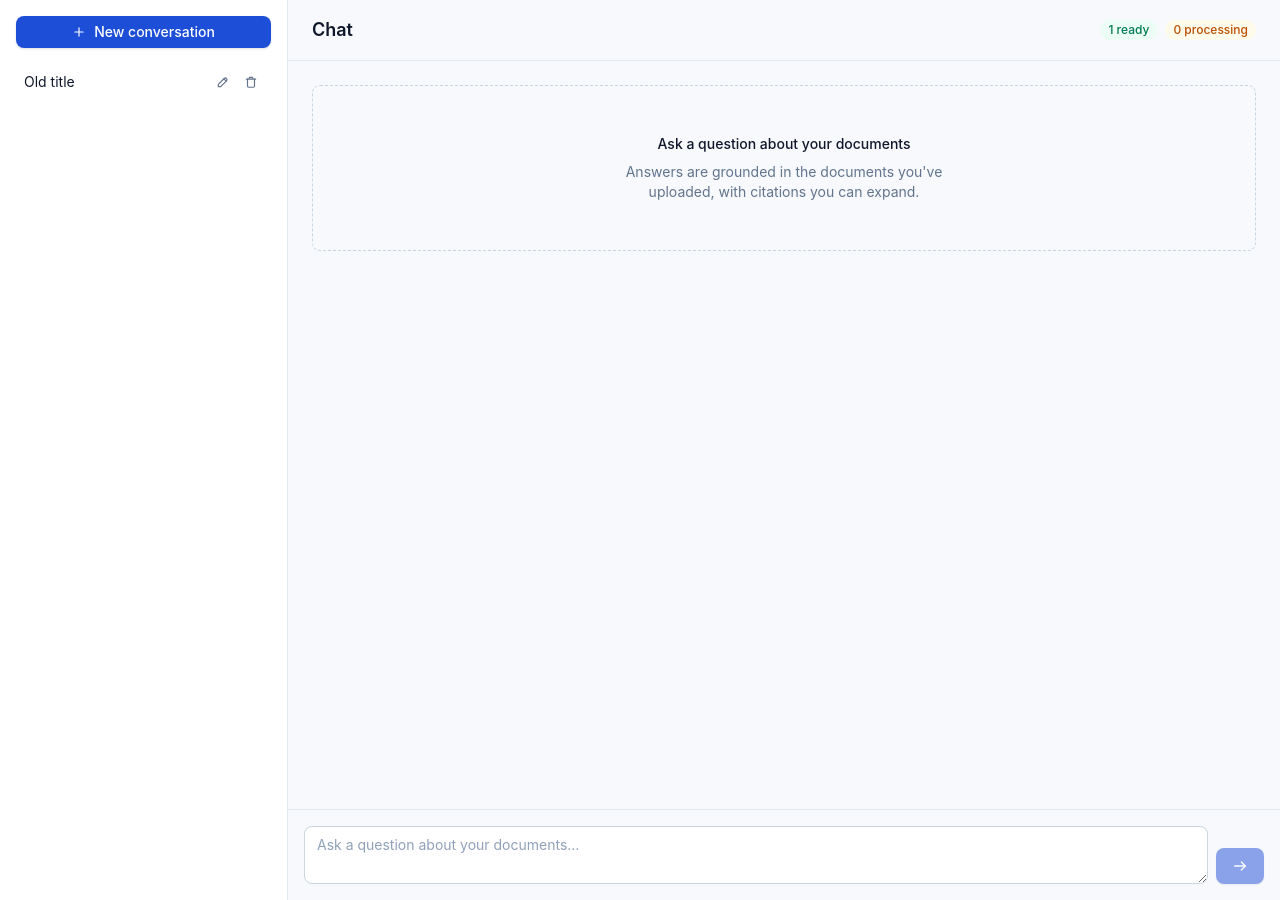
Scenario: Chat screen › AC-049: renames a conversation via PATCH /conversations/{id} and it appears in the sidebar immediately
Expected: the button "Old title" is shown, x1=24 y1=72 x2=207 y2=92
Click the button named "rename old title": point(223, 82) x1=211 y1=70 x2=235 y2=94
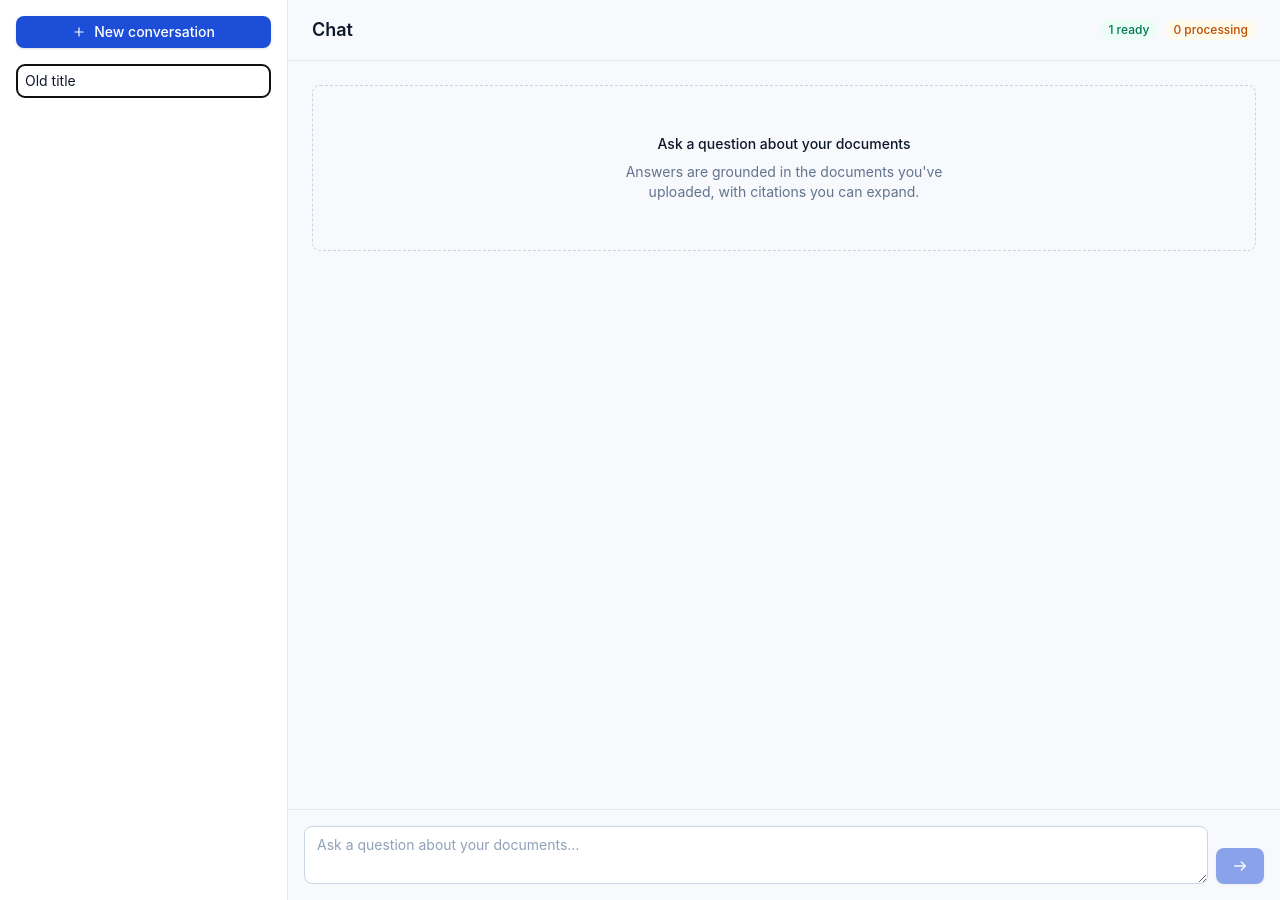
Replace the text in the field named "rename conversation" with "New title": point(144, 81) x1=16 y1=64 x2=271 y2=98
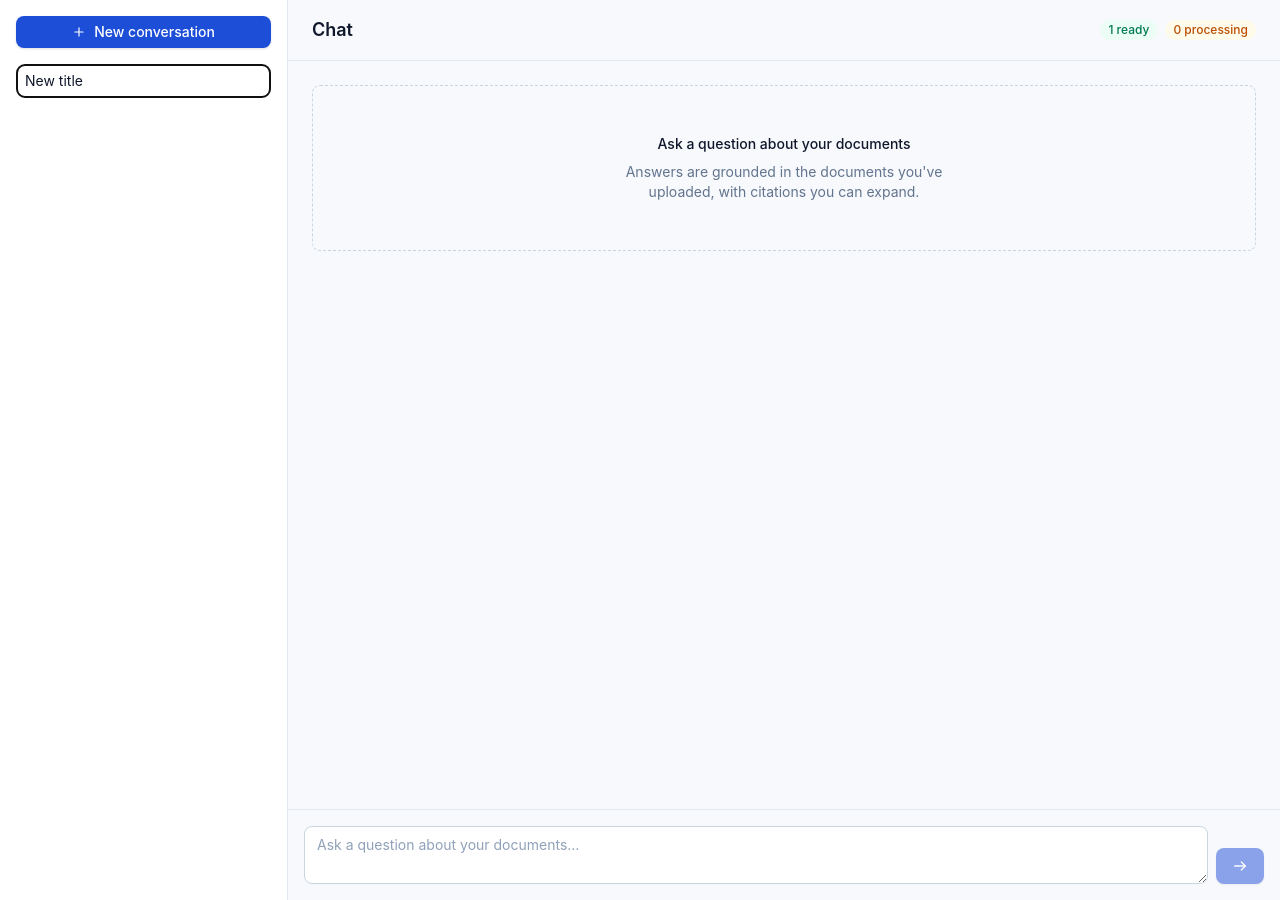
Press Enter in the field named "rename conversation", box x1=16 y1=64 x2=271 y2=98
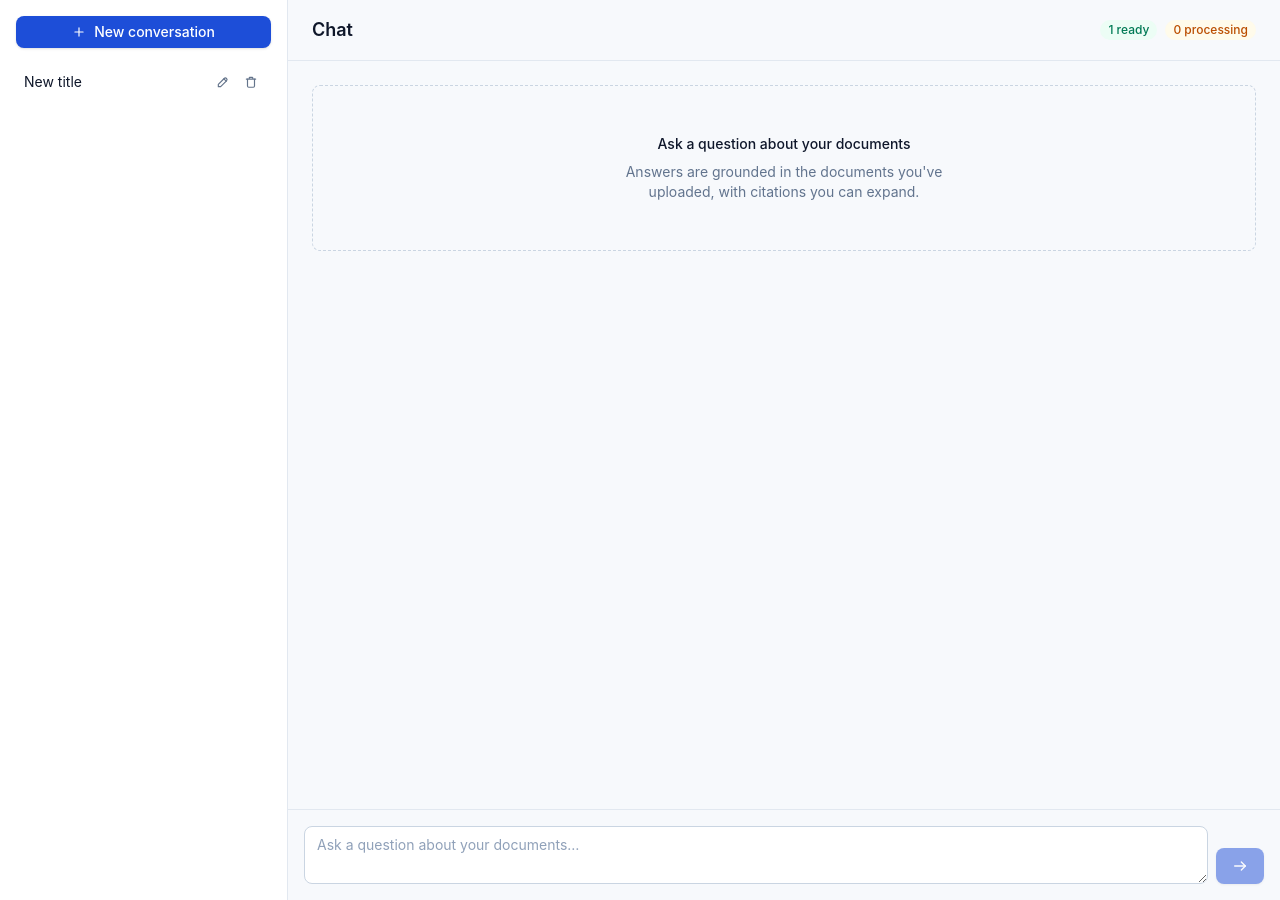
Now the button "New title" is shown, box x1=24 y1=72 x2=207 y2=92
